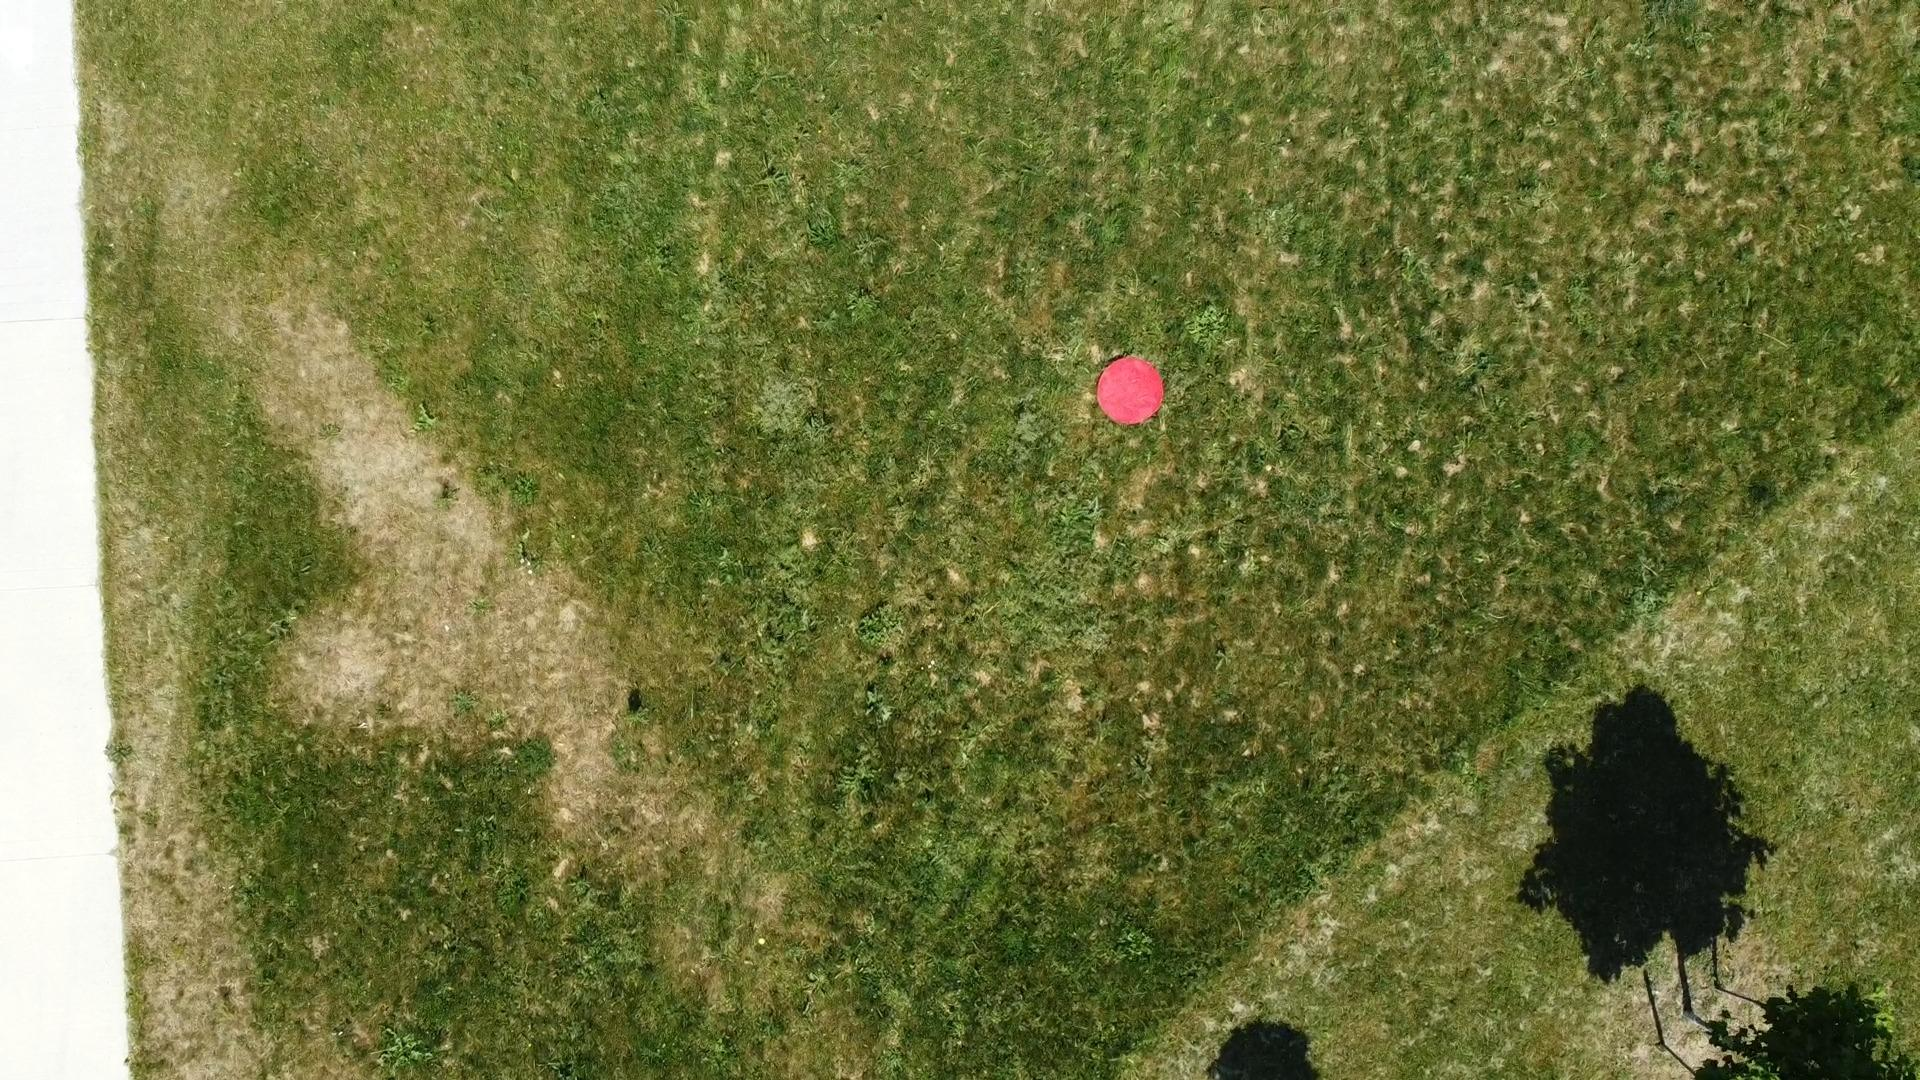Red: (1095, 355, 1168, 427)
